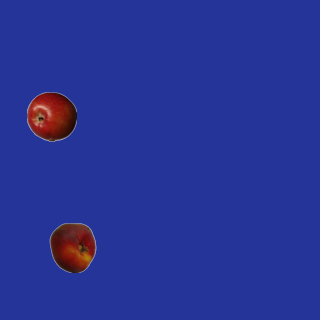Apple Braeburn: (26, 91, 76, 141)
Nectarine Flat: (47, 222, 97, 272)
